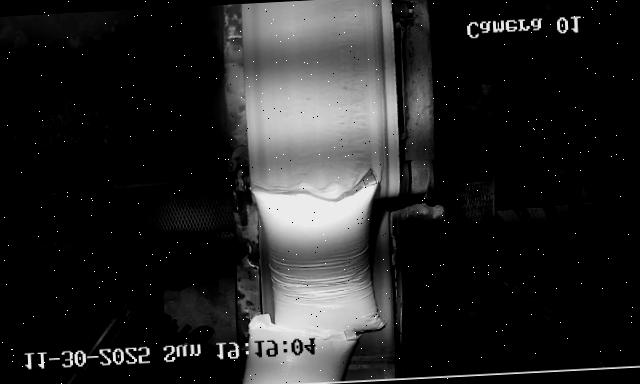bag: (248, 166, 388, 336), (239, 310, 362, 384)
